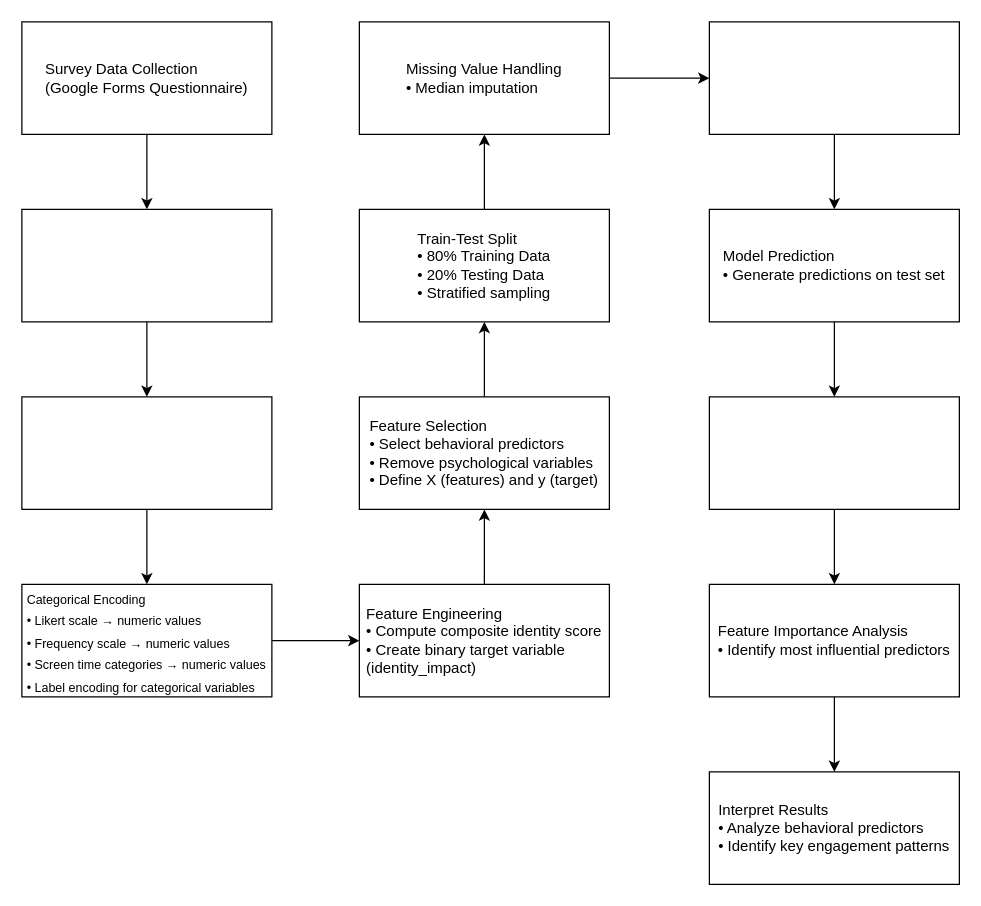
The diagram is 981 pixels wide and 906 high, and some of its shapes have lost their labels. Each missing label, with the box of its shape:
Data Cleaning • Remove timestamp column • Clean column names: (21, 396, 272, 509)
Dataset Exported to CSV (DataRM.csv): (21, 208, 272, 322)
Model Evaluation • Accuracy • Precision • Recall • F1-score • Cross-validation: (708, 396, 959, 509)
Random Forest Model Training • n_estimators = 300 • max_depth = 10: (708, 21, 959, 134)
